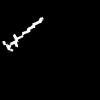double_crochet: (3, 18, 42, 50)
